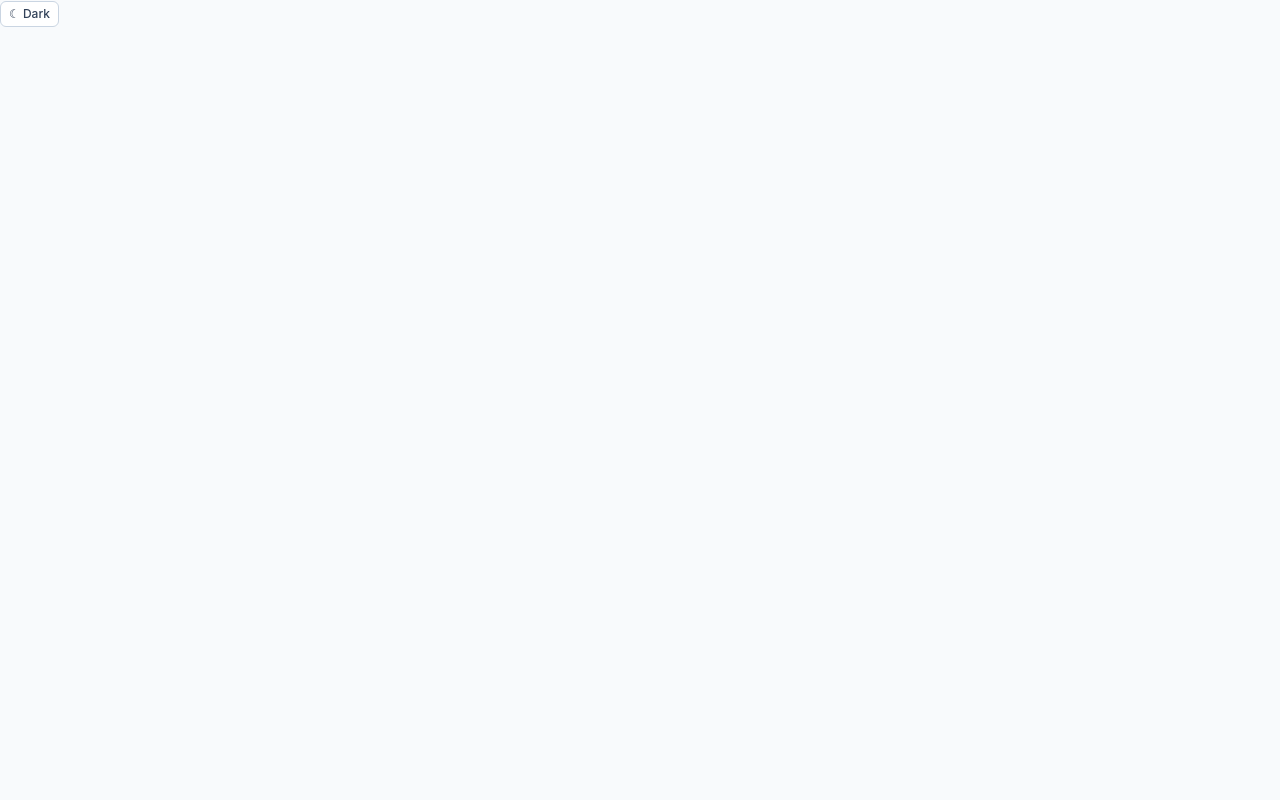
ThemeToggle › switches the page theme and remembers the choice
Later steps or results of the test are not shown.
What coordinates should you click on to do the following:
click the button with aria-label "Dark mode"
I would click on:
 (30, 14)
Its box is top-left (0, 1), bottom-right (59, 27).
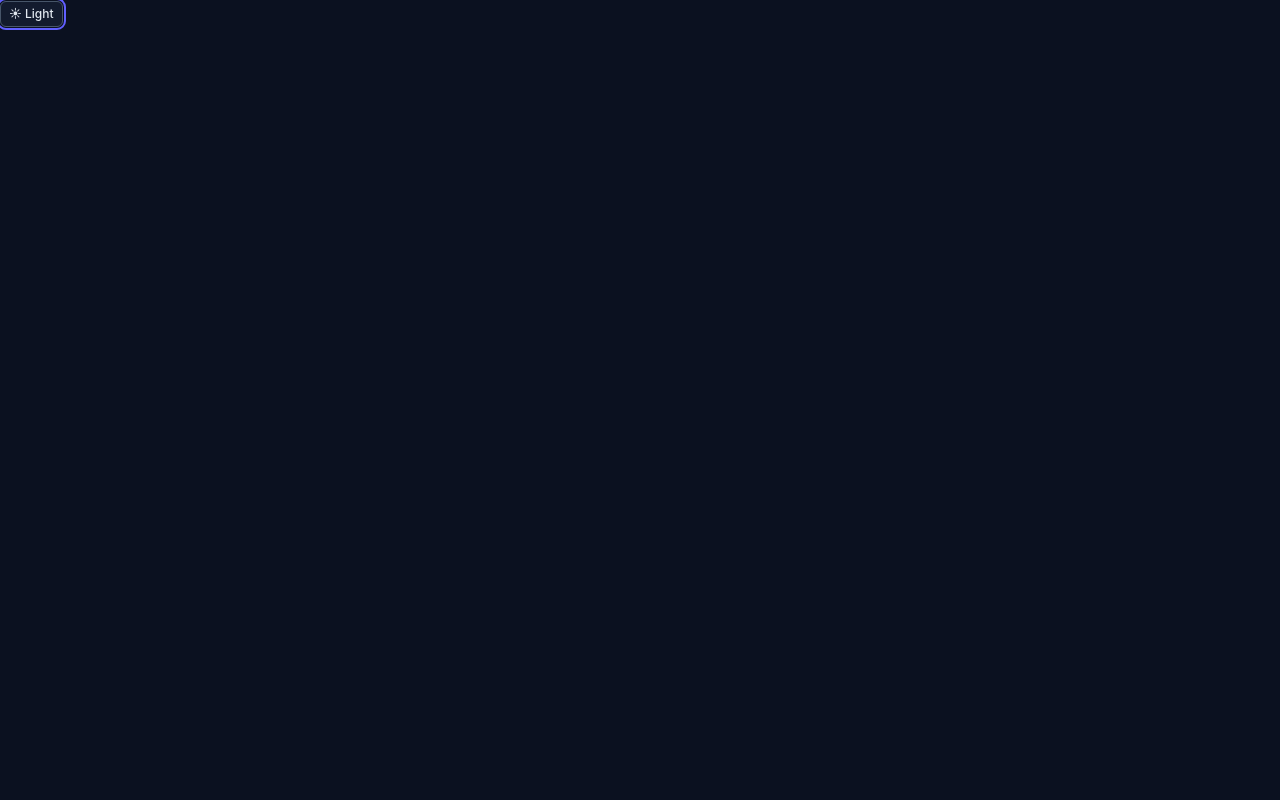
Check: the button with aria-label "Dark mode" is pressed, box top-left (0, 1), bottom-right (63, 27)
